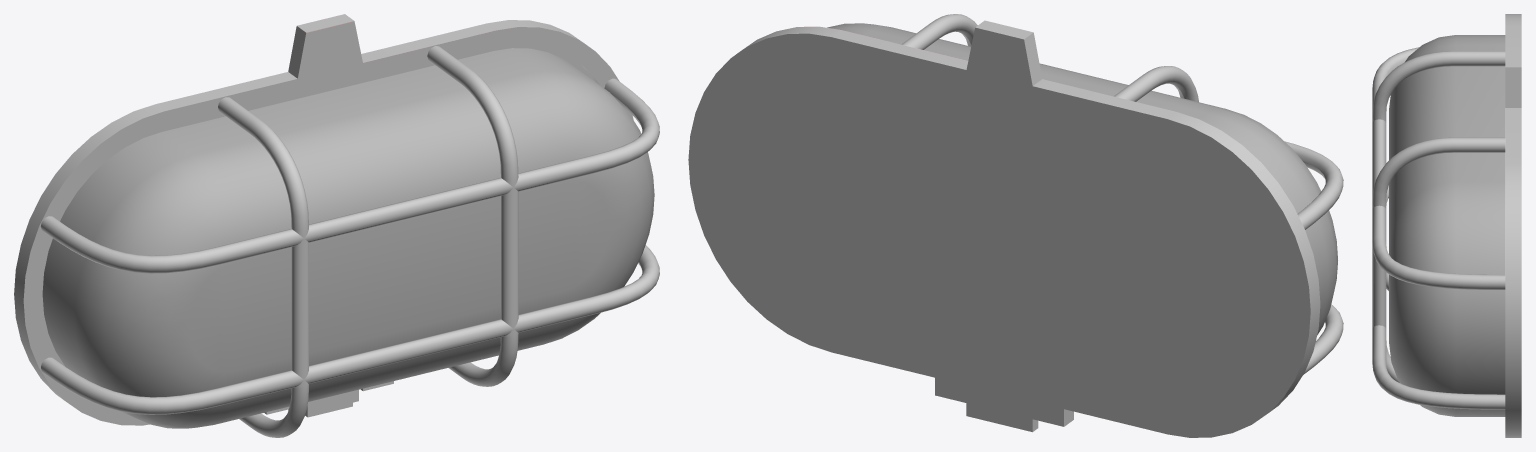
File: SM_AlarmLight.fbx
The picture shows the model from 3 angles, left to right: view 1: azimuth 30°, elevation 25°; view 2: azimuth 150°, elevation 25°; view 3: azimuth 270°, elevation 25°; orthographic projection. The views are drawn at different scales.
Visible parts, largest first — view 1: SM_AlarmLight_LOD0; view 2: SM_AlarmLight_LOD0; view 3: SM_AlarmLight_LOD0.
Part boxes in pixels (box(x1,y1,x2,y2)): SM_AlarmLight_LOD0: box(14, 14, 659, 437); SM_AlarmLight_LOD0: box(688, 14, 1343, 437); SM_AlarmLight_LOD0: box(1372, 14, 1521, 437).
Size of the model in its own units: 47.32 by 11.79 by 28.38.
